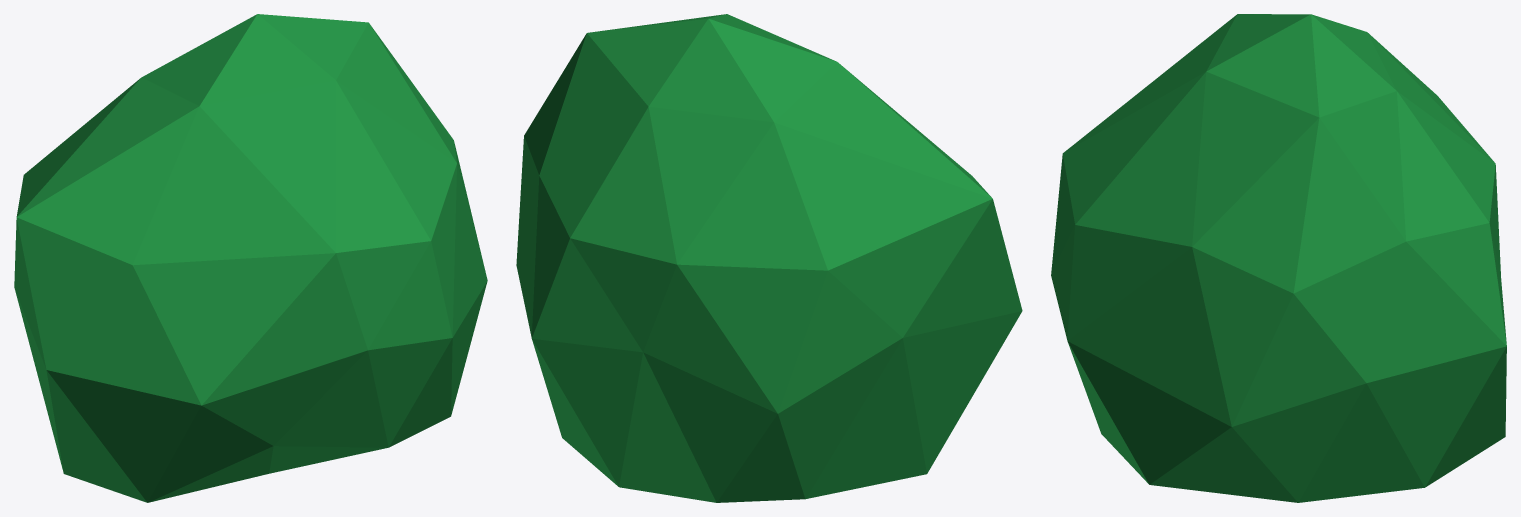
The model's file is Bushes_03.fbx.
3 views of the same model, side by side, from view 1: azimuth 30°, elevation 25°; view 2: azimuth 150°, elevation 25°; view 3: azimuth 270°, elevation 25° (orthographic). The views are drawn at different scales.
Parts seen in each view (by area): view 1: Bushes_03; view 2: Bushes_03; view 3: Bushes_03.
Part boxes in pixels (x1,y1,x2,y2): Bushes_03: (14,14,487,502); Bushes_03: (516,14,1022,502); Bushes_03: (1051,14,1506,502).
Bounding box in the file's own units: 147 × 128 × 119.
